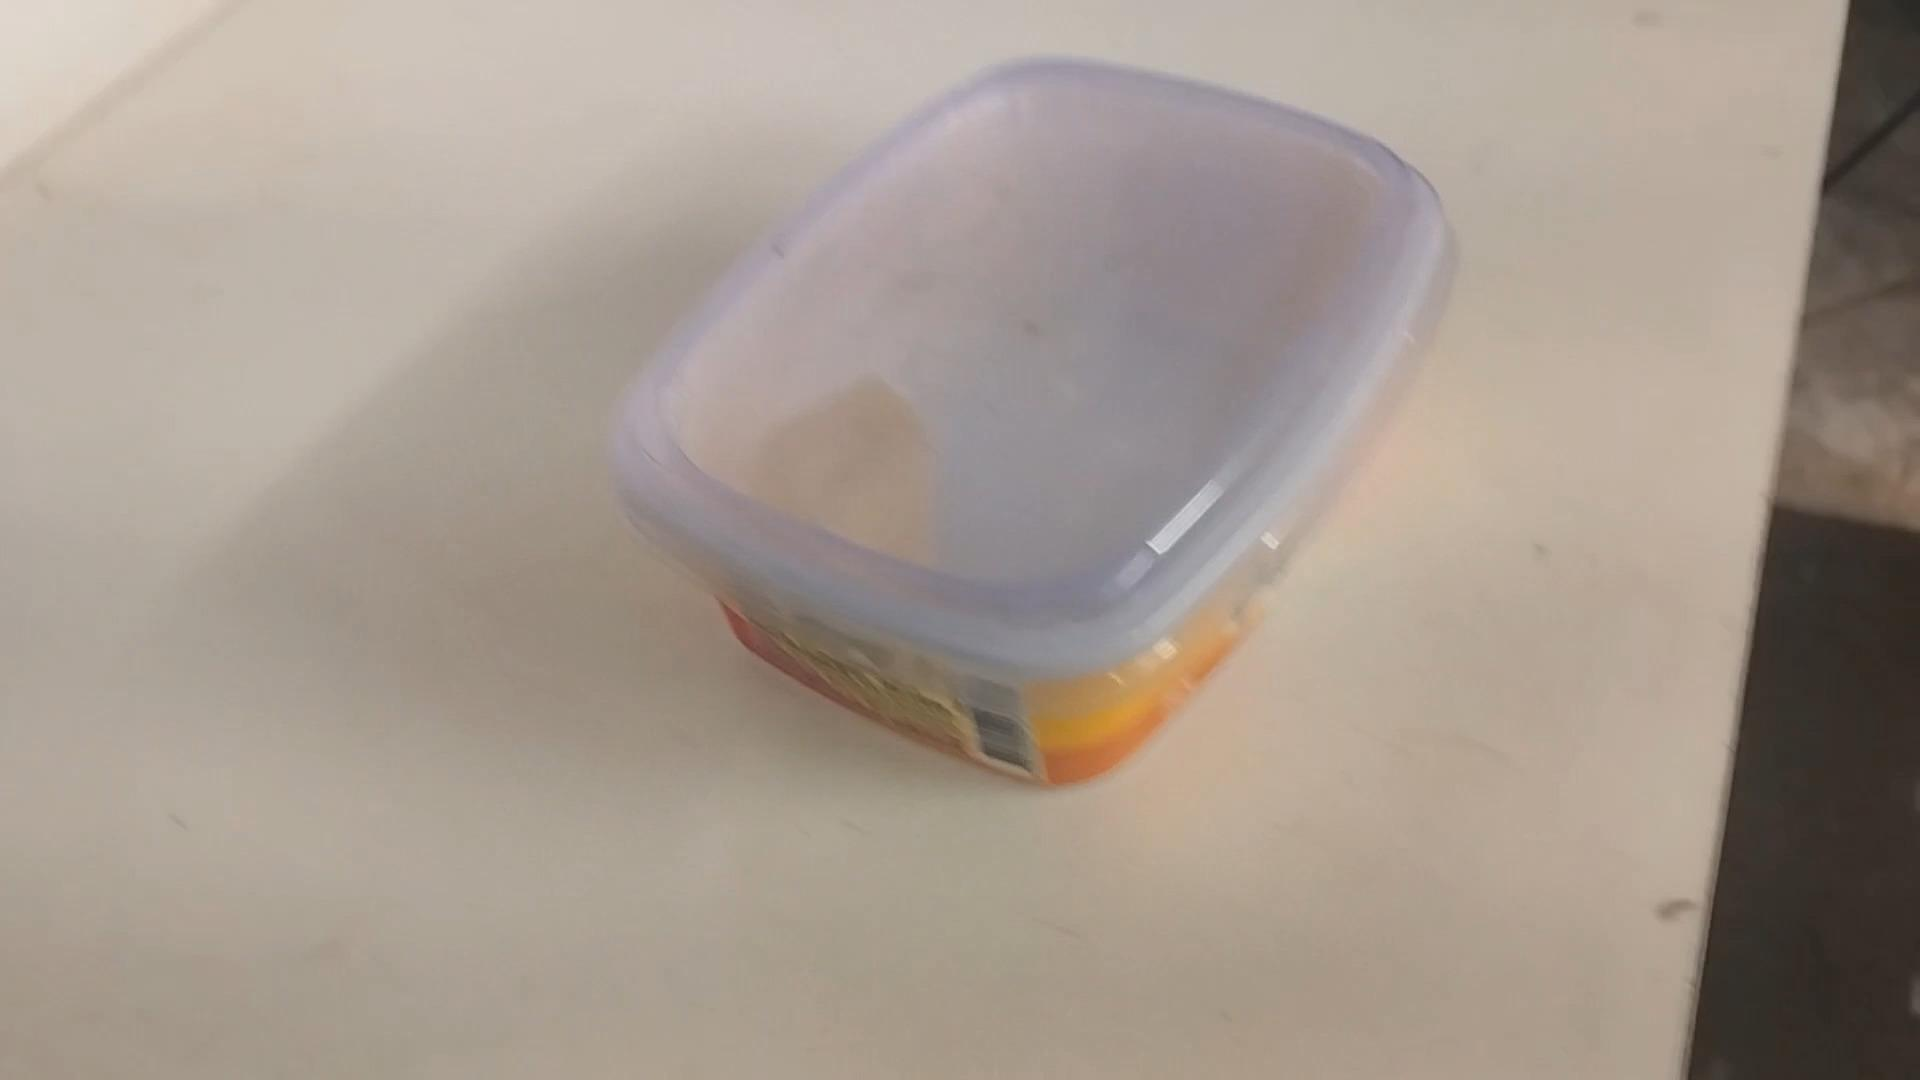butter: (596, 57, 1457, 794)
